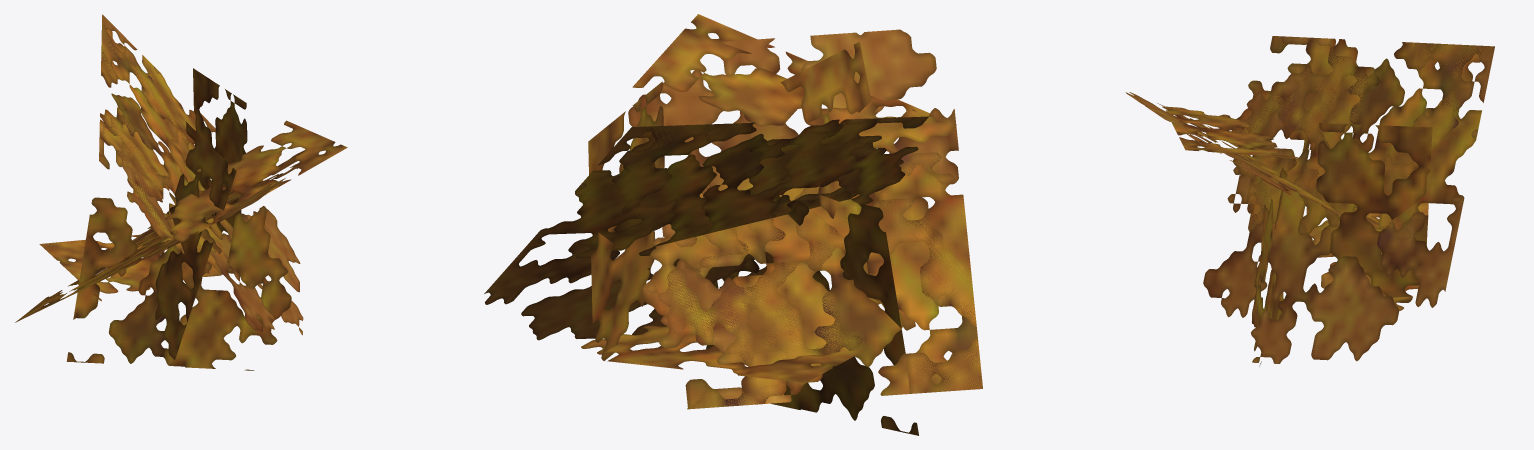
Rendered from maple_leaves_vertical_slab_2.obj.
3 views of the same model, side by side, from view 1: azimuth 30°, elevation 25°; view 2: azimuth 150°, elevation 25°; view 3: azimuth 270°, elevation 25° (orthographic). The views are drawn at different scales.
Parts seen in each view (by area): view 1: cube; view 2: cube; view 3: cube.
Boxes of the visible parts, <box> form: cube: <box>15,14,347,370</box>; cube: <box>484,14,982,435</box>; cube: <box>1126,36,1494,366</box>.
Bounding box in the file's own units: 2.85 × 2.25 × 2.69.
